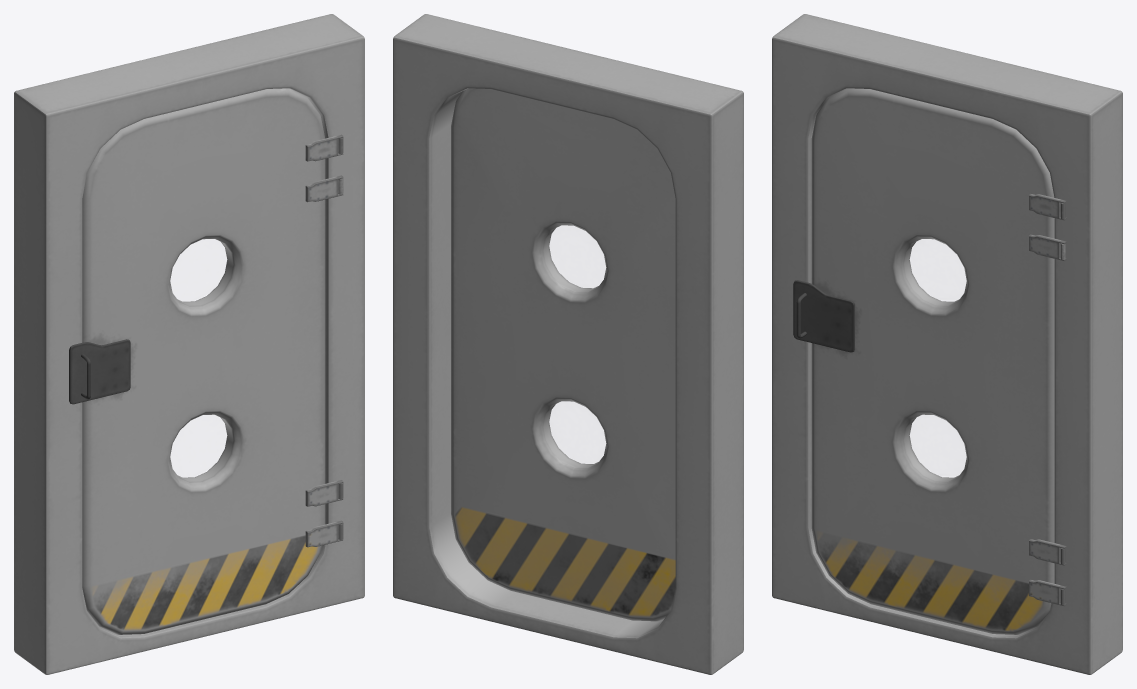
File: laboratory_door.glb
3 views of the same model, side by side, from view 1: azimuth 30°, elevation 25°; view 2: azimuth 150°, elevation 25°; view 3: azimuth 330°, elevation 25° (orthographic).
Parts seen in each view (by area): view 1: Door_Low, Frame_Low, HandleThing_Low, Joint2_Low, Joint4_Low, Joint1_Low, Joint3_Low; view 2: Door_Low, Frame_Low; view 3: Door_Low, Frame_Low, HandleThing_Low, Joint4_Low, Joint1_Low, Joint2_Low, Joint3_Low.
Part boxes in pixels (x1=…): Door_Low: x1=82, y1=88, x2=325, y2=634; Frame_Low: x1=14, y1=14, x2=364, y2=674; HandleThing_Low: x1=69, y1=339, x2=130, y2=404; Joint2_Low: x1=305, y1=175, x2=343, y2=202; Joint4_Low: x1=305, y1=520, x2=343, y2=547; Joint1_Low: x1=305, y1=134, x2=343, y2=161; Joint3_Low: x1=305, y1=480, x2=343, y2=506; Door_Low: x1=451, y1=88, x2=675, y2=621; Frame_Low: x1=393, y1=14, x2=743, y2=674; Door_Low: x1=811, y1=88, x2=1054, y2=634; Frame_Low: x1=772, y1=14, x2=1122, y2=674; HandleThing_Low: x1=793, y1=280, x2=854, y2=352; Joint4_Low: x1=1029, y1=579, x2=1066, y2=606; Joint1_Low: x1=1029, y1=193, x2=1066, y2=220; Joint2_Low: x1=1029, y1=234, x2=1066, y2=261; Joint3_Low: x1=1029, y1=539, x2=1066, y2=565.
Size of the model in its own units: 122 by 204 by 27.4.
Materials: 1 (1 with a texture image).
